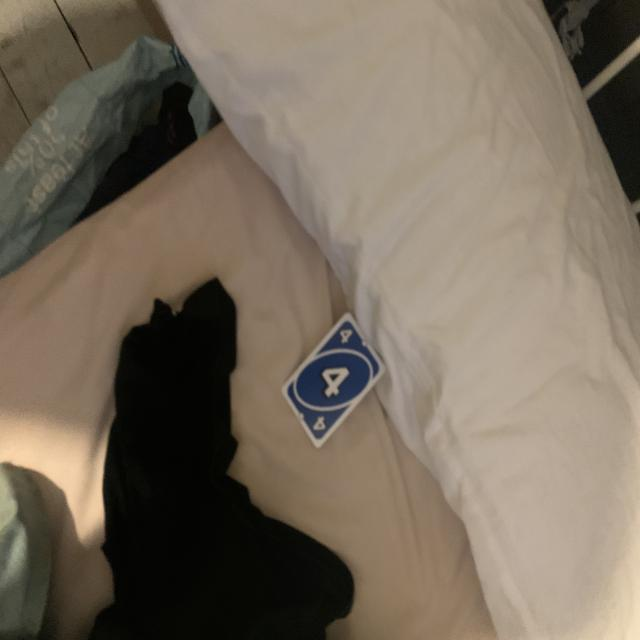lblue-4: (335, 324, 357, 349)
